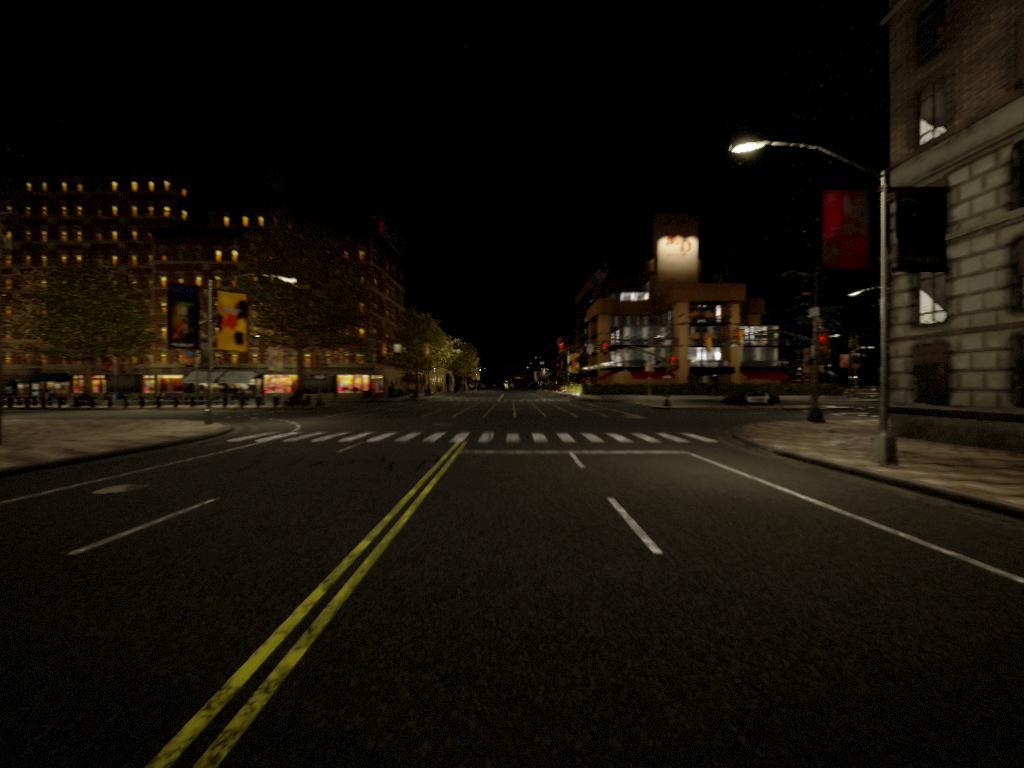traffic_light: (817, 333, 830, 358), (557, 338, 567, 357), (733, 331, 743, 348), (671, 356, 680, 373), (704, 339, 714, 352), (602, 342, 611, 356)
